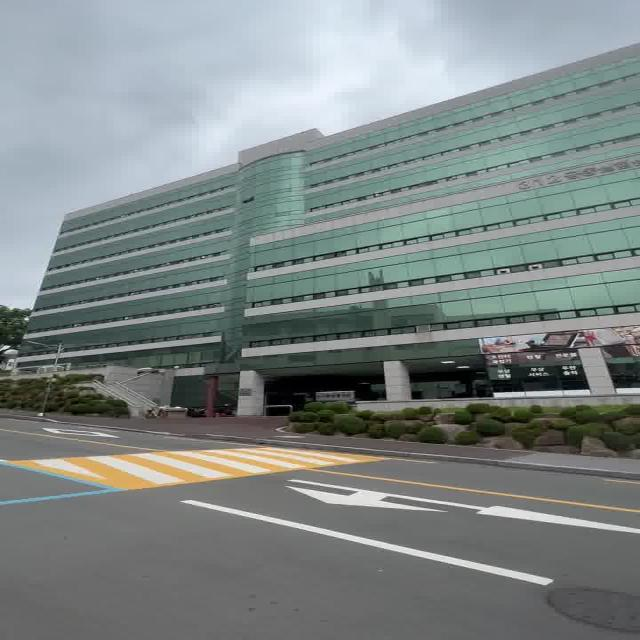building: (23, 118, 640, 318)
